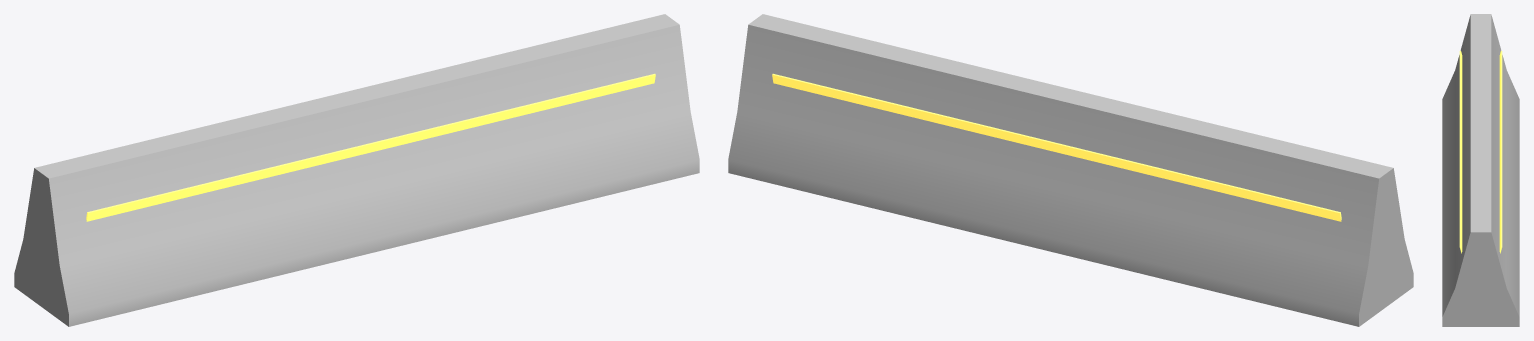
The model's file is SM_Barrier_Concrete.fbx.
3 renders of one model, left to right at view 1: azimuth 30°, elevation 25°; view 2: azimuth 150°, elevation 25°; view 3: azimuth 270°, elevation 25°, orthographic. The views are drawn at different scales.
Visible parts, largest first — view 1: SM_Barrier_Concrete; view 2: SM_Barrier_Concrete; view 3: SM_Barrier_Concrete.
Boxes of the visible parts, x1,y1,x2,y2 form: SM_Barrier_Concrete: (14,14,699,326); SM_Barrier_Concrete: (728,14,1413,326); SM_Barrier_Concrete: (1442,14,1519,326).
Size of the model in its own units: 400 by 81 by 60.
